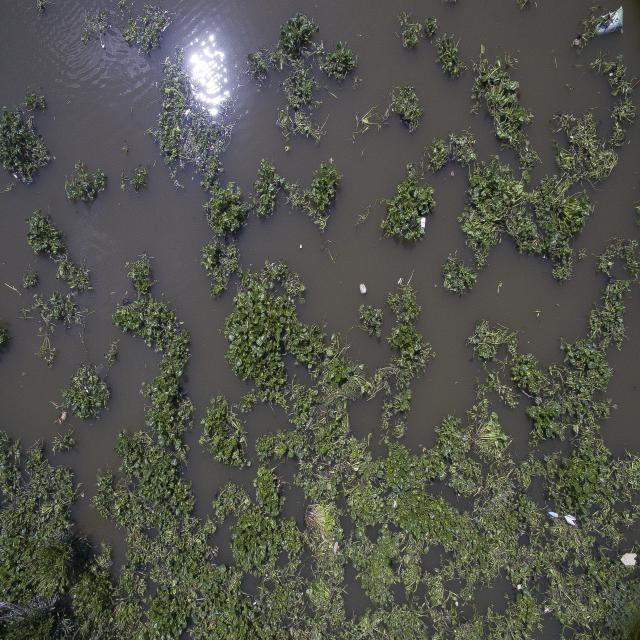Plastic: (596, 6, 623, 34), (565, 513, 575, 527), (10, 173, 21, 181), (546, 512, 559, 518), (419, 216, 425, 229), (184, 109, 192, 117), (516, 585, 524, 588)
